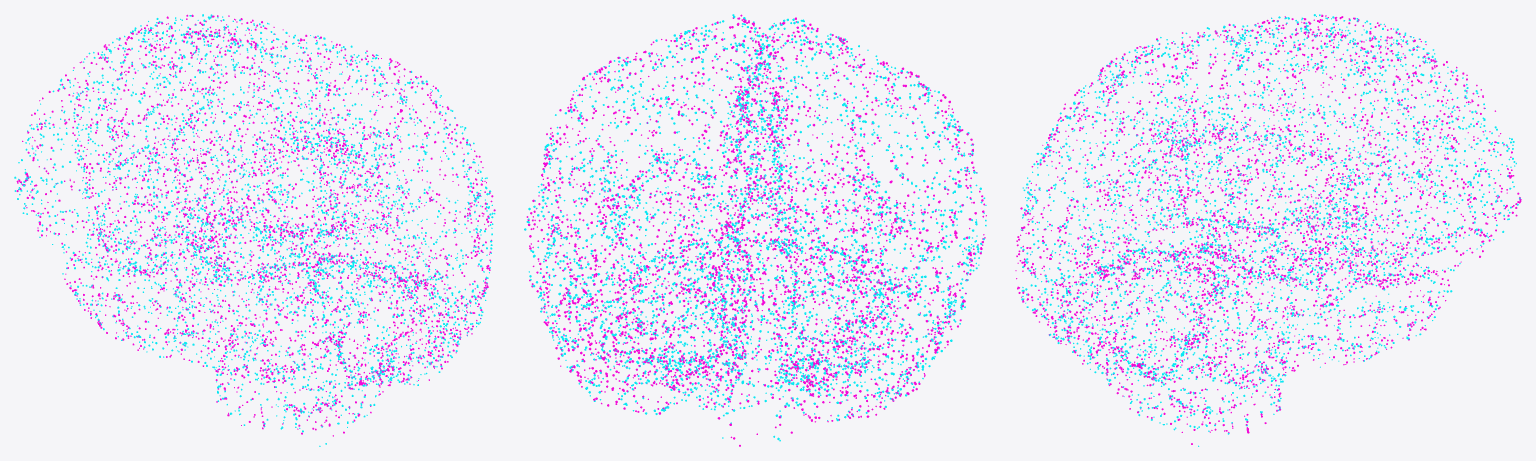
File: brain-hologram.glb
3 views of the same model, side by side, from view 1: azimuth 30°, elevation 25°; view 2: azimuth 150°, elevation 25°; view 3: azimuth 270°, elevation 25° (orthographic). The views are drawn at different scales.
Visible parts, largest first — view 1: Icosphere.001; view 2: Icosphere.001; view 3: Icosphere.001.
Part boxes in pixels (x1,y1,x2,y2): Icosphere.001: (14,14,495,446); Icosphere.001: (524,14,986,446); Icosphere.001: (1015,14,1521,446).
Bounding box in the file's own units: 1.09 × 1.1 × 1.3.
